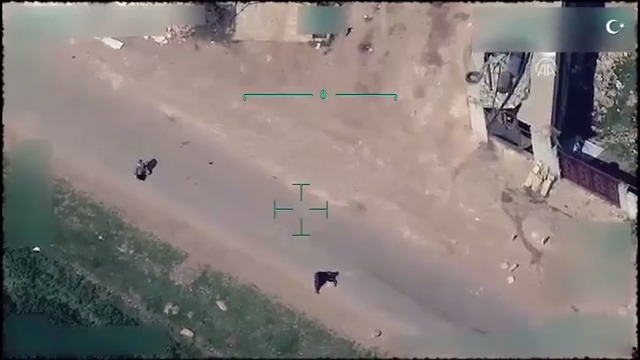insan: (128, 156, 153, 182)
